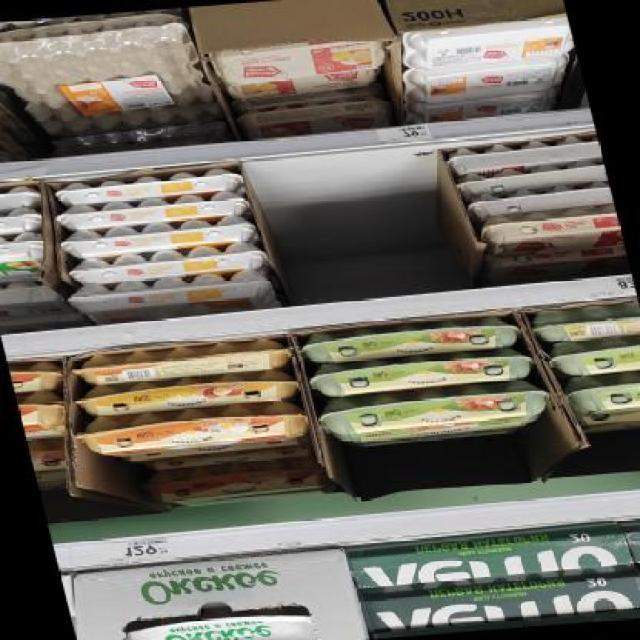Egg: (310, 377, 554, 451), (73, 400, 314, 458), (305, 347, 541, 401), (67, 268, 285, 326), (299, 314, 525, 367), (74, 369, 303, 420), (61, 236, 277, 287), (54, 211, 270, 259), (47, 185, 263, 233), (395, 15, 577, 71), (44, 162, 258, 206), (209, 35, 393, 86), (398, 56, 574, 104), (474, 205, 625, 259), (112, 605, 326, 639), (547, 334, 640, 381), (543, 303, 640, 343), (557, 371, 639, 418), (0, 275, 68, 327), (15, 390, 77, 441), (27, 439, 88, 483), (0, 229, 49, 281), (7, 358, 69, 394), (0, 206, 48, 238), (1, 184, 42, 213)
